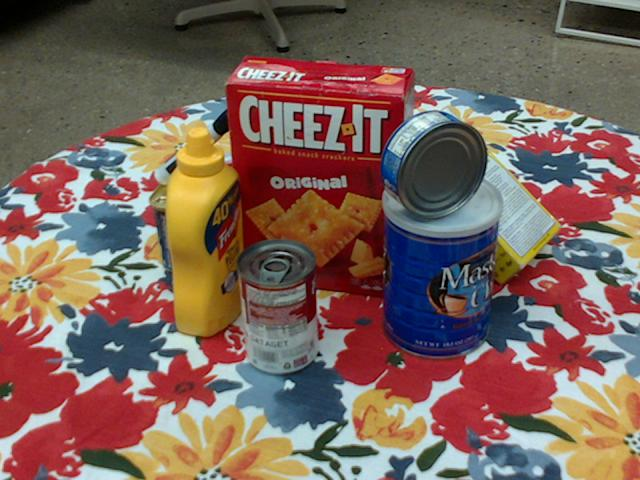cracker_box: (227, 57, 418, 294)
gelatin_box: (202, 147, 287, 222)
large_marker: (155, 107, 242, 184)
master_chef_can: (381, 170, 502, 362)
mug: (355, 129, 442, 229)
mustard_bottle: (165, 127, 246, 338)
potted_meat_can: (148, 158, 231, 277)
sugar_box: (384, 108, 564, 287)
tomato_soup_can: (235, 239, 317, 375)
tuna_fish_can: (382, 110, 489, 219)
